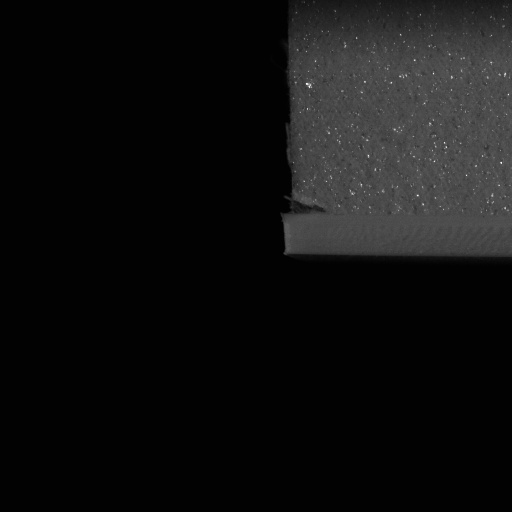bengque: (283, 191, 329, 217)
